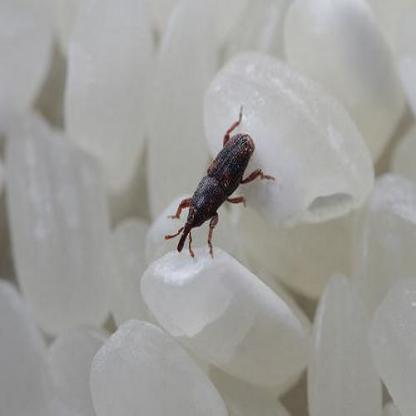rice-bug: (176, 112, 272, 258)
